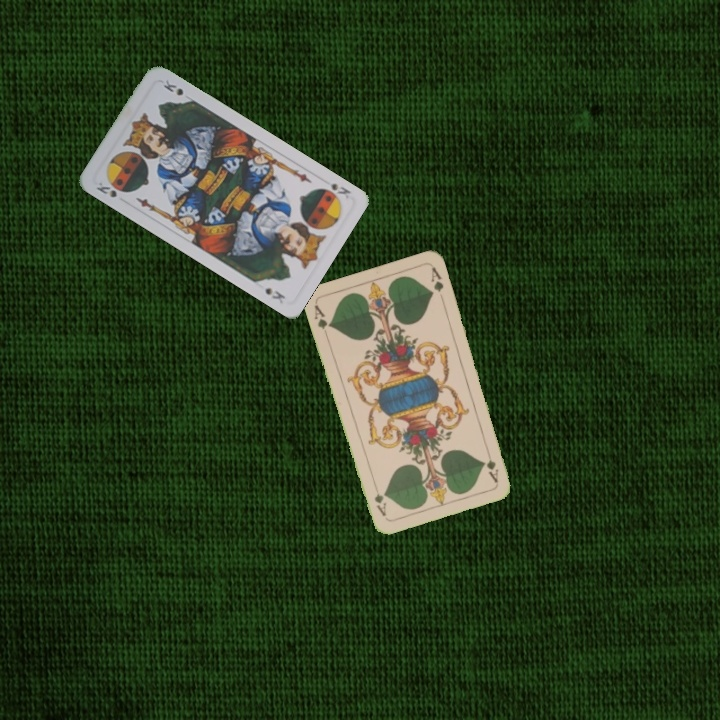GA: (310, 301, 333, 340), (482, 444, 501, 485)
SK: (316, 174, 354, 203), (92, 178, 119, 200)
